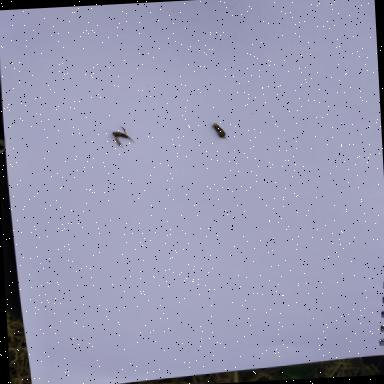pbw: (105, 125, 137, 149), (210, 120, 226, 141)
